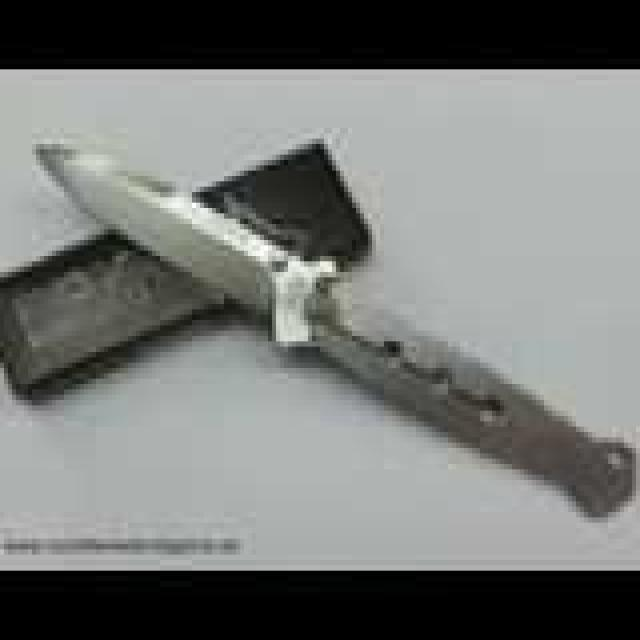Knife: (28, 133, 640, 640)
